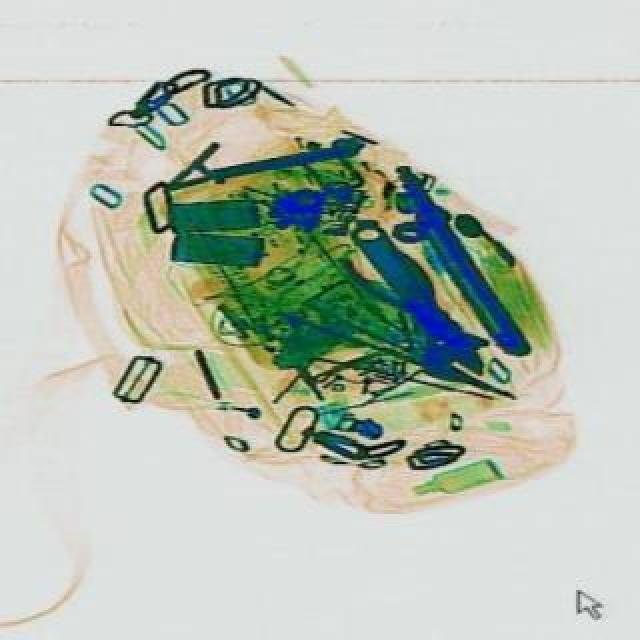scissors: (328, 206, 500, 394)
wrench: (330, 222, 502, 392), (272, 290, 520, 406)
